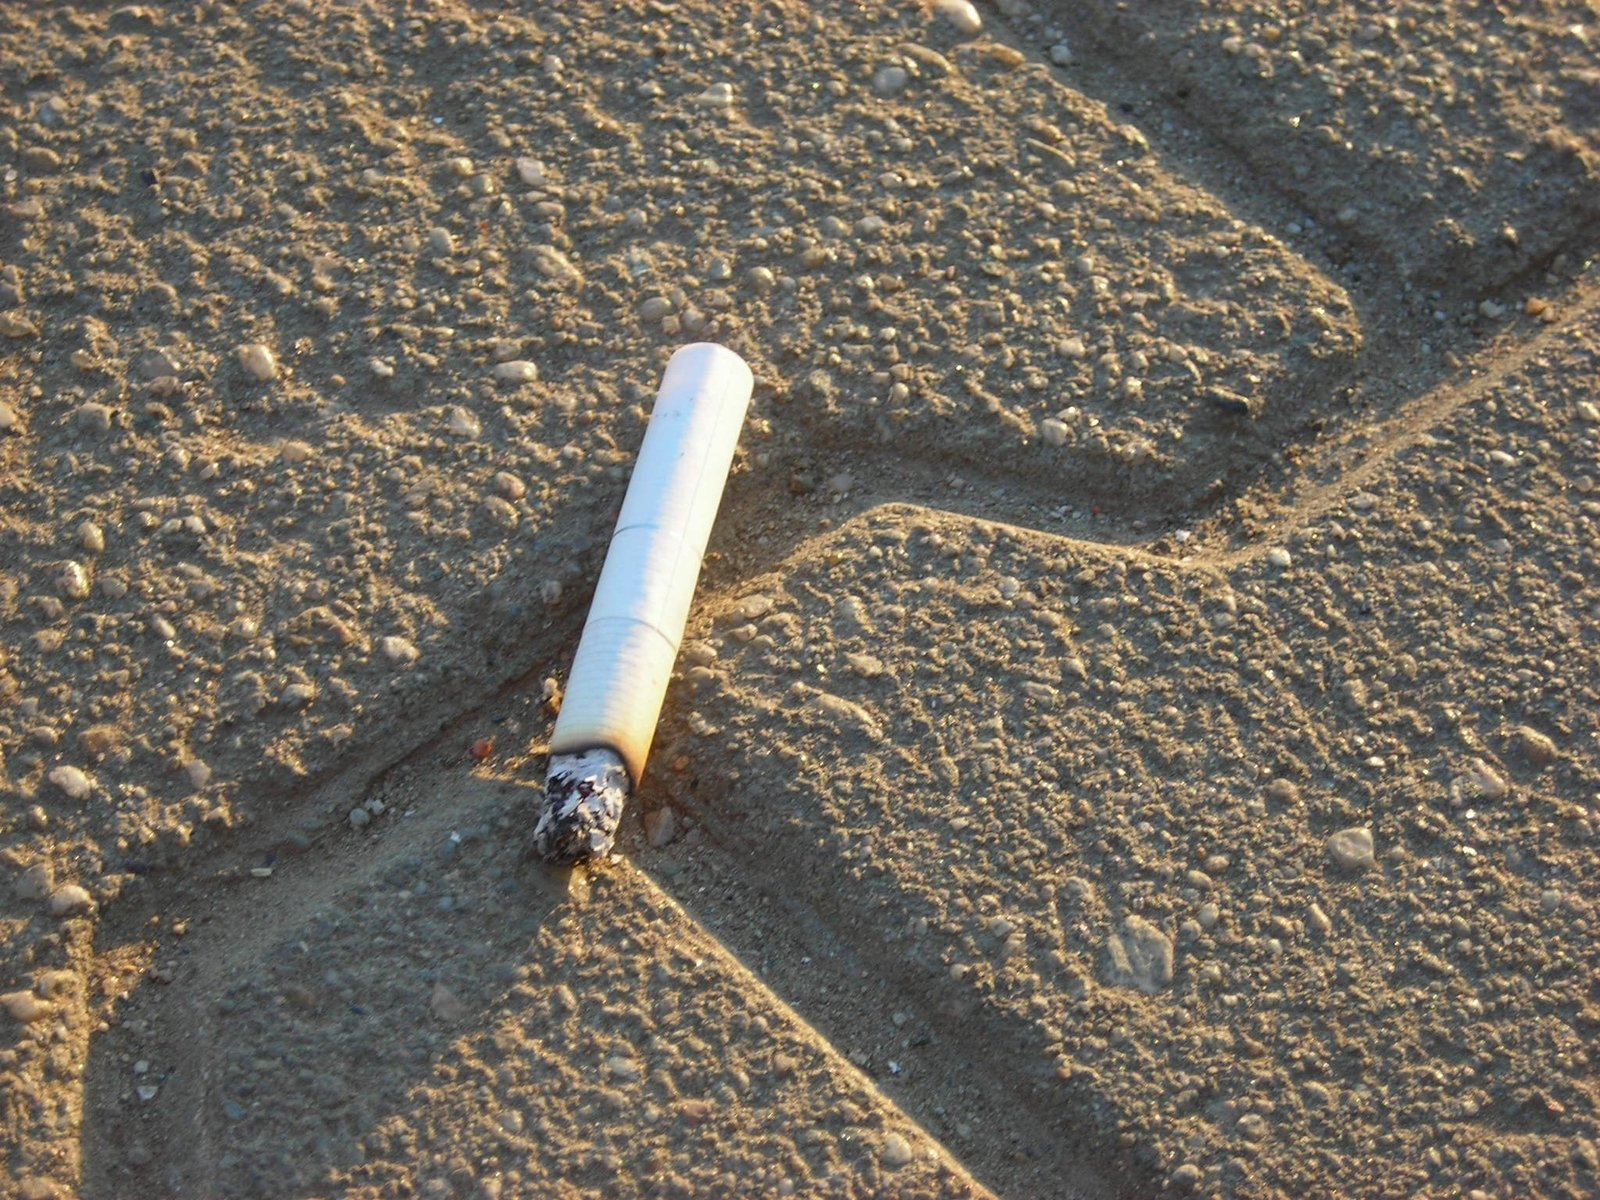cigarette: (529, 340, 753, 861)
